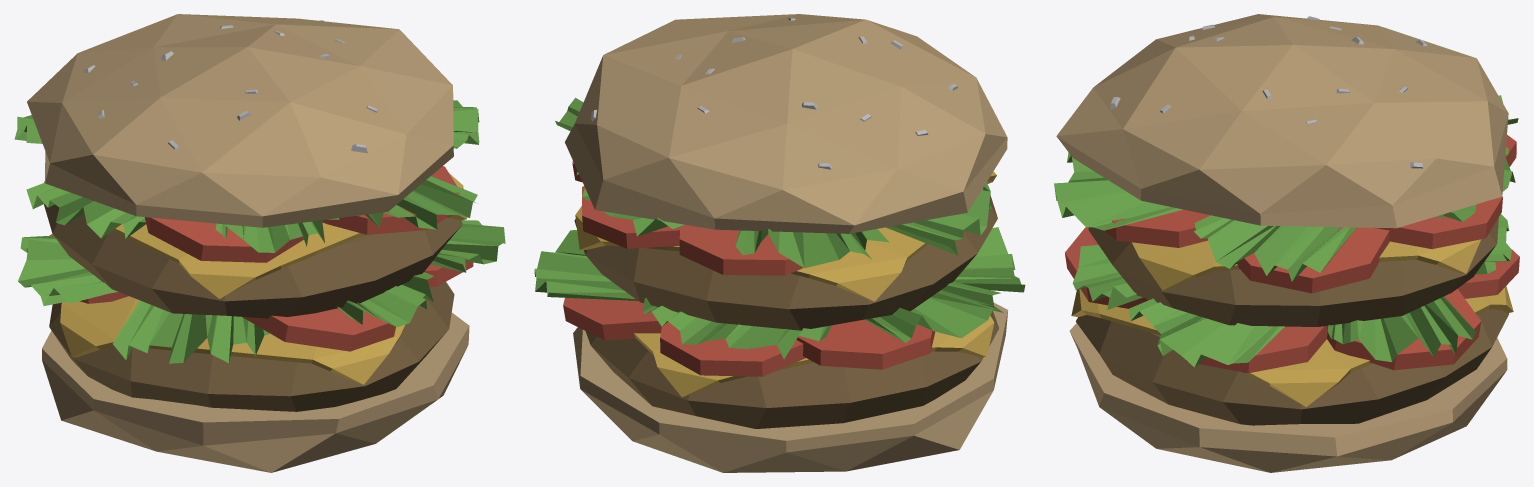
Rendered from burger.glb.
3 renders of one model, left to right at view 1: azimuth 30°, elevation 25°; view 2: azimuth 150°, elevation 25°; view 3: azimuth 270°, elevation 25°, orthographic. The views are drawn at different scales.
Visible parts, largest first — view 1: BurgerLarge; view 2: BurgerLarge; view 3: BurgerLarge.
Part boxes in pixels (x1,y1,x2,y2): BurgerLarge: [14, 14, 505, 472]; BurgerLarge: [534, 14, 1025, 472]; BurgerLarge: [1054, 14, 1519, 472].
Bounding box in the file's own units: 0.8205 × 0.6791 × 0.7532.
